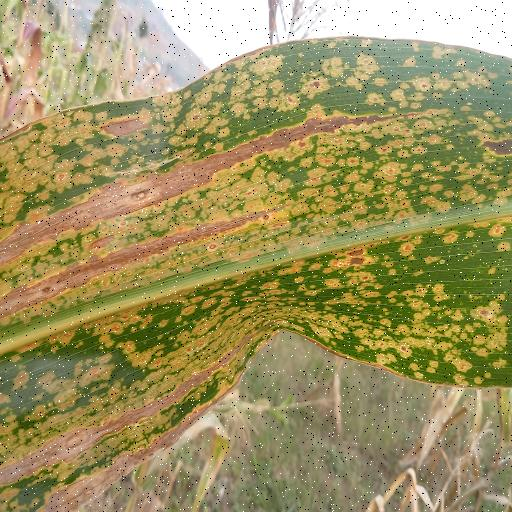Corn_Yellow_Spots: (0, 32, 512, 512)
